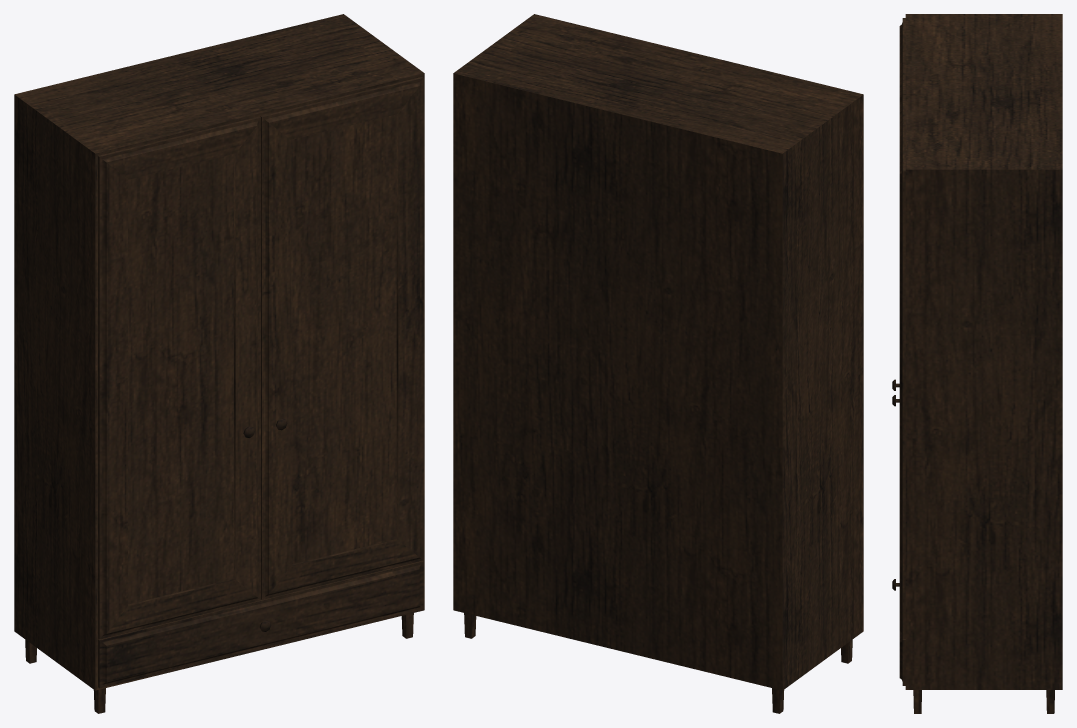
Rendered from wardrobe_mp_1_1.fbx.
3 renders of one model, left to right at view 1: azimuth 30°, elevation 25°; view 2: azimuth 150°, elevation 25°; view 3: azimuth 270°, elevation 25°, orthographic. The views are drawn at different scales.
Visible parts, largest first — view 1: wardrobe_mp_1_1, wardrobe_mp_1_1_drawer; view 2: wardrobe_mp_1_1; view 3: wardrobe_mp_1_1, wardrobe_mp_1_1_drawer.
Boxes of the visible parts, x1,y1,x2,y2 form: wardrobe_mp_1_1: (14,14,424,713); wardrobe_mp_1_1_drawer: (98,561,423,688); wardrobe_mp_1_1: (453,14,863,713); wardrobe_mp_1_1: (892,14,1062,713); wardrobe_mp_1_1_drawer: (892,579,905,685).
Size of the model in its own units: 1.22 by 0.5645 by 2.
